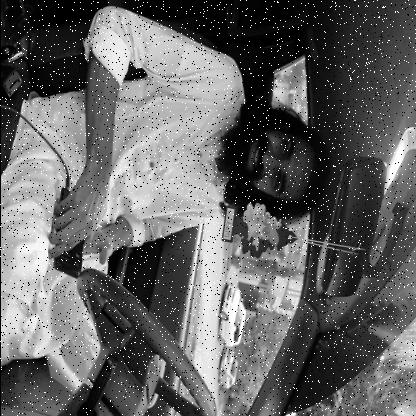no_seatbelt: (119, 88, 326, 228)
